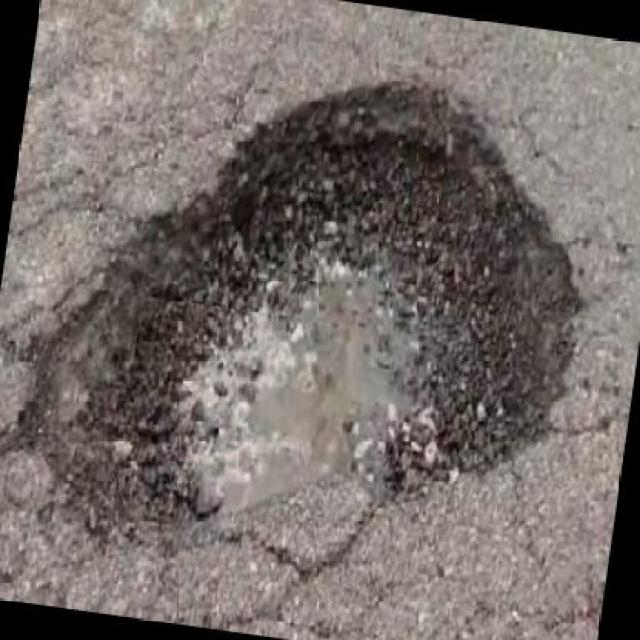pothole: (2, 17, 620, 614)
